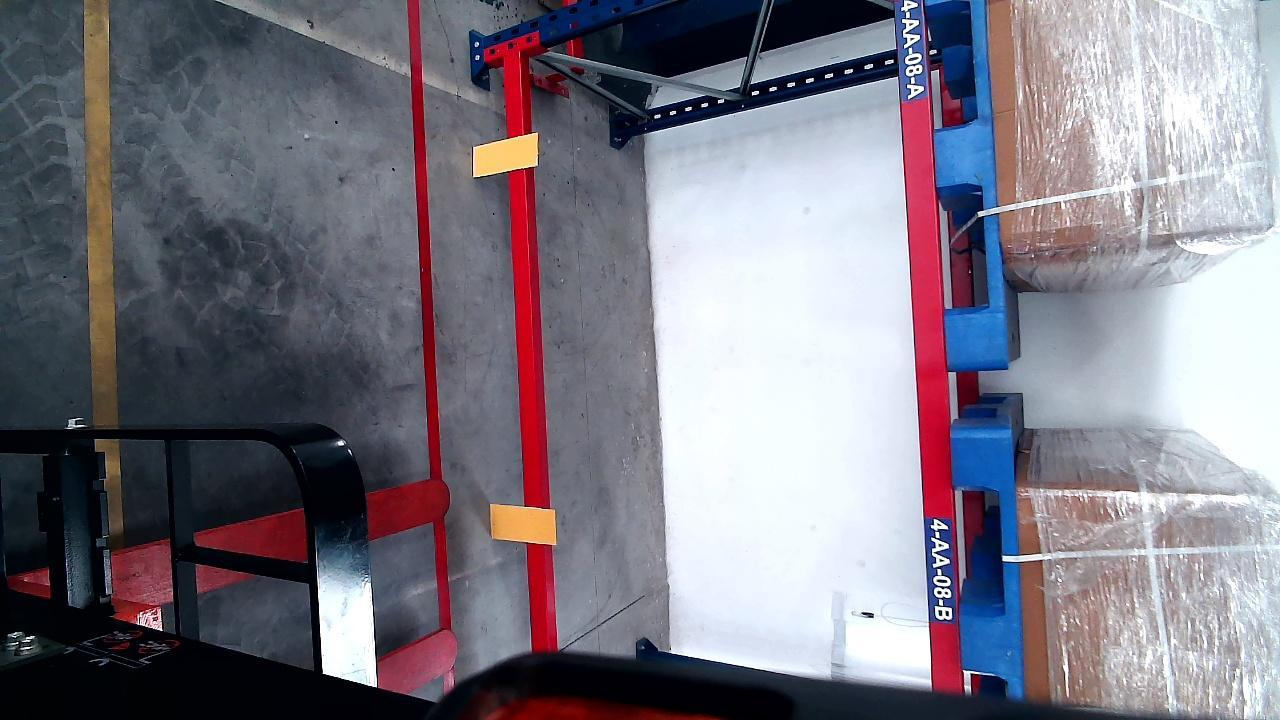red_line: (405, 0, 453, 629)
yellow_line: (85, 2, 121, 547)
